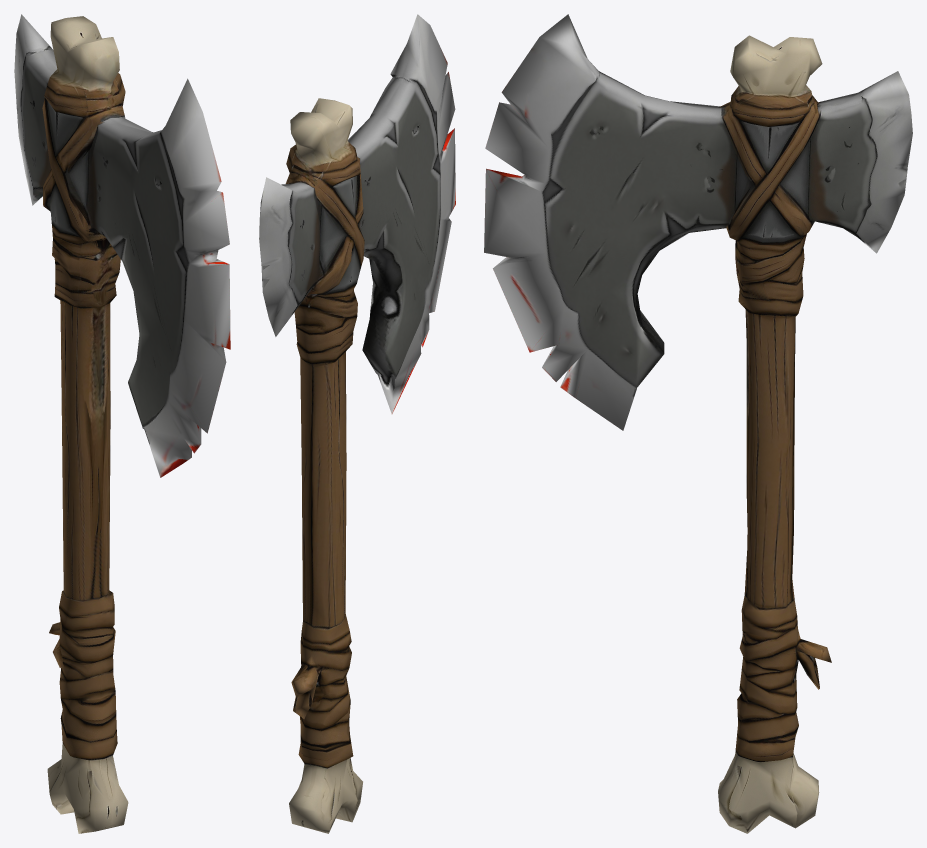
File: Warrior_exe.fbx
The picture shows the model from 3 angles, left to right: view 1: azimuth 30°, elevation 25°; view 2: azimuth 150°, elevation 25°; view 3: azimuth 270°, elevation 25°; orthographic projection. The views are drawn at different scales.
Visible parts, largest first — view 1: tripo_node_32acb1d4; view 2: tripo_node_32acb1d4; view 3: tripo_node_32acb1d4.
Part boxes in pixels (<box>): tripo_node_32acb1d4: <box>14,14,230,833</box>; tripo_node_32acb1d4: <box>259,14,455,833</box>; tripo_node_32acb1d4: <box>484,14,912,833</box>.
Size of the model in its own units: 9.62 by 103 by 49.52.
Materials: 1 (1 with a texture image).
